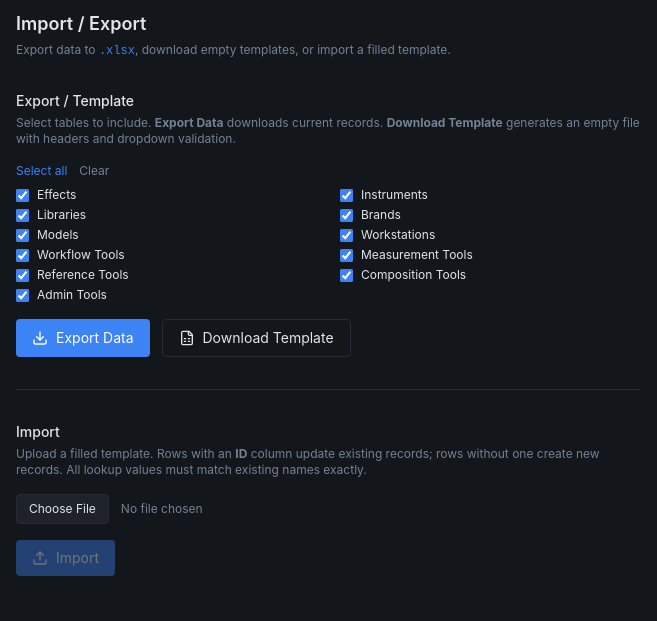
ImportExportPage — export › shows success message with filename after export
This screenshot has width=657, height=621.
What coordinates should you click on to do the following:
click the button "Export Data"
I would click on:
 (83, 338)
Its box is [16,319,150,357].
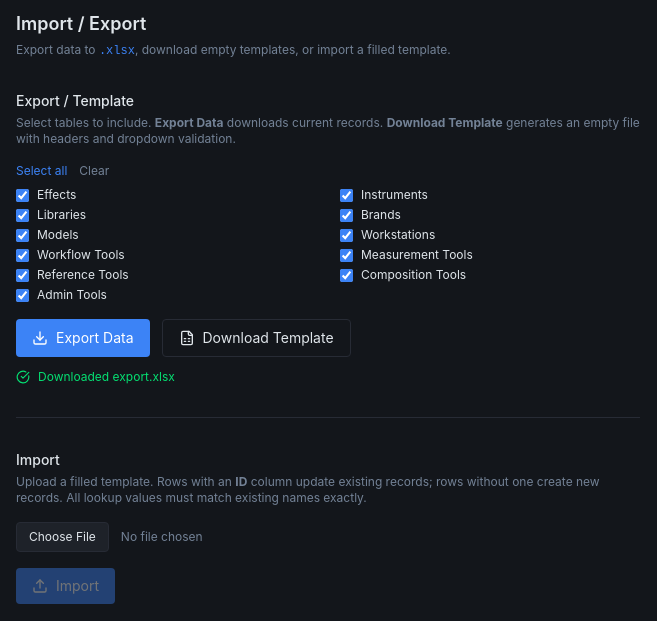
Expected: the text "Downloaded export.xlsx" is shown, [16,369,175,384]
